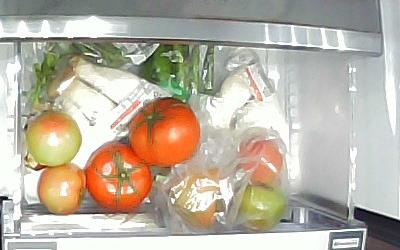tomato: (126, 96, 201, 167), (82, 140, 152, 212), (24, 109, 82, 166), (36, 161, 86, 214)
tomato_vinyl: (168, 170, 227, 228), (232, 186, 286, 231), (237, 135, 283, 183)
